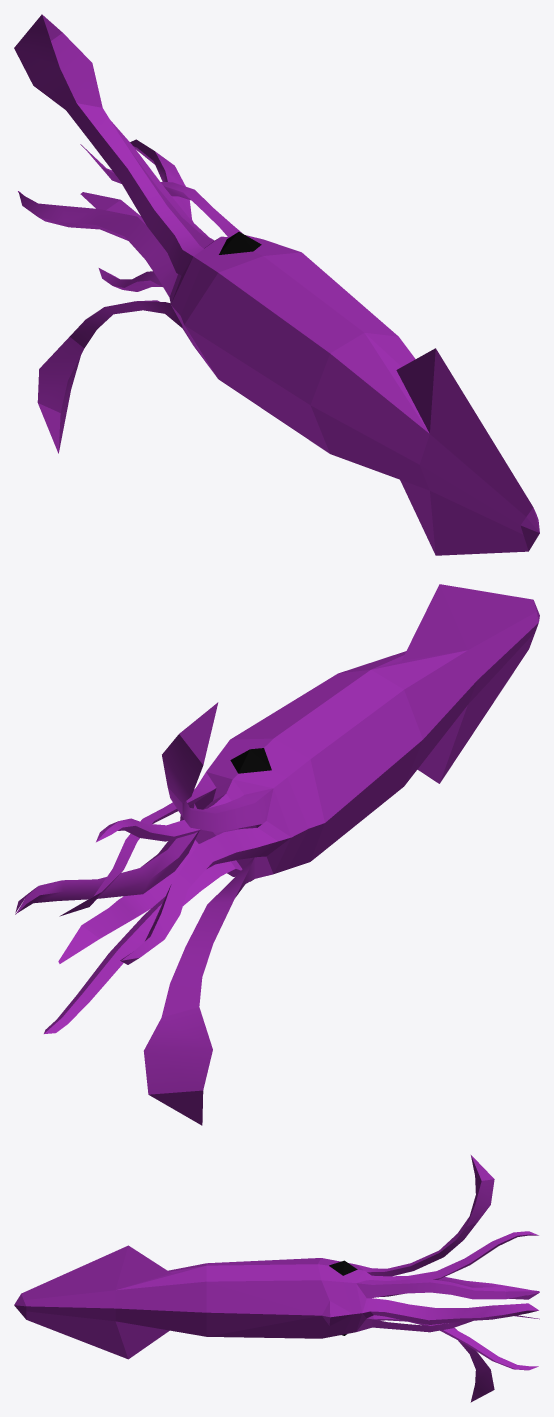
Rendered from 3bc4b003-d0b1-455b-aa66-c2c4c79bbd9f.glb.
3 renders of one model, top to bottom at view 1: azimuth 30°, elevation 25°; view 2: azimuth 150°, elevation 25°; view 3: azimuth 270°, elevation 25°, orthographic. The views are drawn at different scales.
Parts seen in each view (by area): view 1: Google:polySurface6; view 2: Google:polySurface6; view 3: Google:polySurface6.
Part boxes in pixels (x1=…): Google:polySurface6: x1=14, y1=14, x2=539, y2=555; Google:polySurface6: x1=15, y1=584, x2=539, y2=1125; Google:polySurface6: x1=14, y1=1155, x2=539, y2=1402.
Bounding box in the file's own units: 35.48 × 89.09 × 174.
